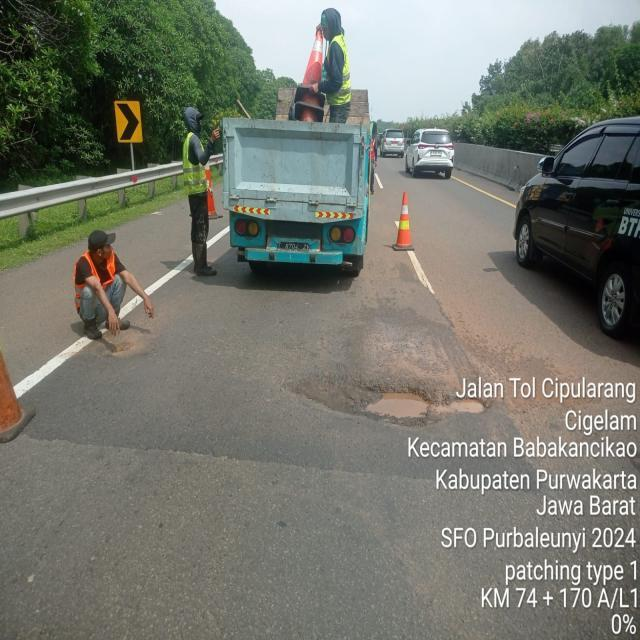Buraco: (277, 373, 496, 430)
